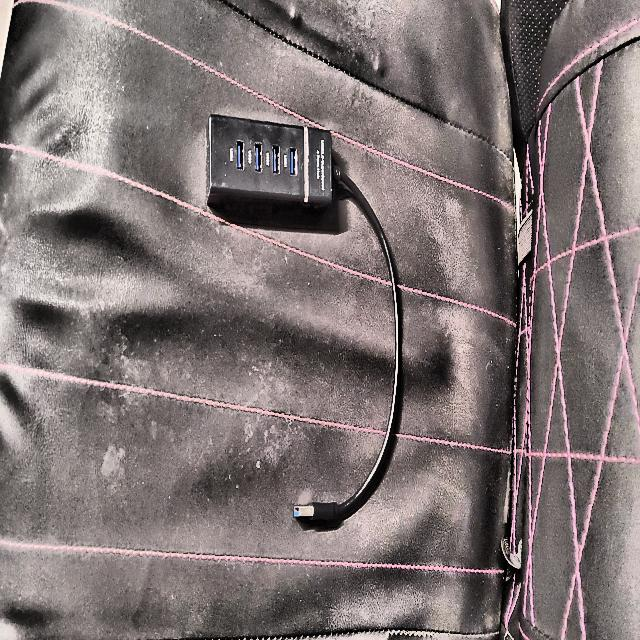HUB: (206, 115, 401, 527)
